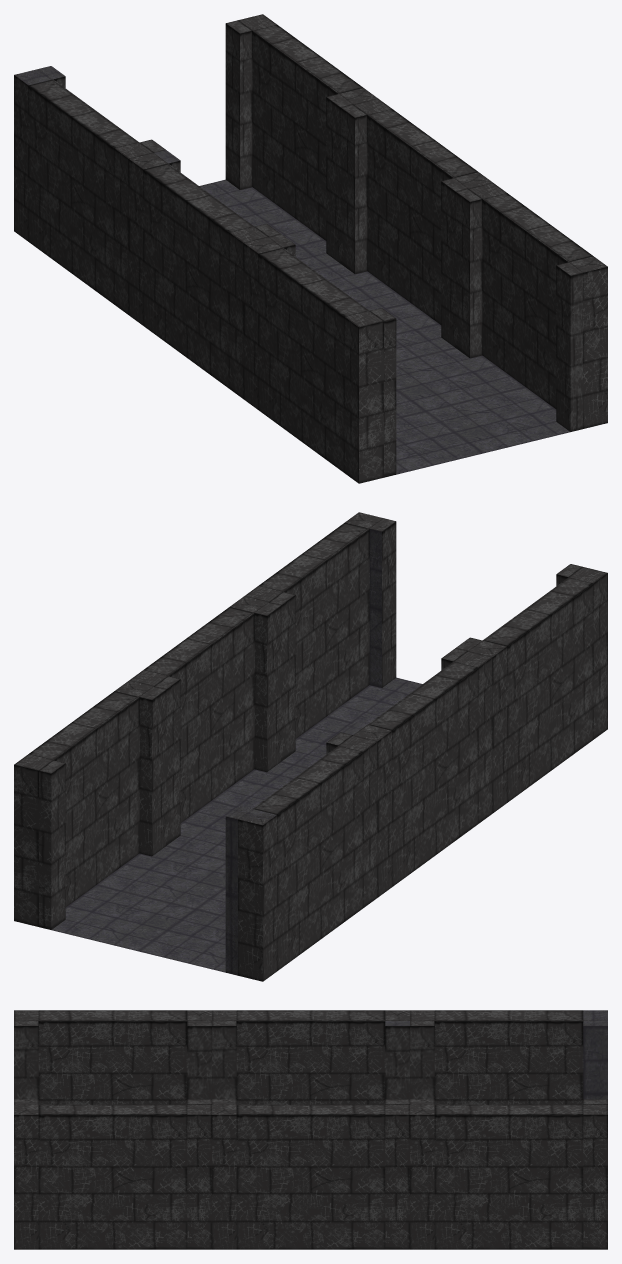
File: corridor1.fbx
3 renders of one model, top to bottom at view 1: azimuth 30°, elevation 25°; view 2: azimuth 150°, elevation 25°; view 3: azimuth 270°, elevation 25°, orthographic. The views are drawn at different scales.
Parts seen in each view (by area): view 1: Cube.000; view 2: Cube.000; view 3: Cube.000.
Boxes of the visible parts, x1,y1,x2,y2 form: Cube.000: (14, 14, 607, 483); Cube.000: (14, 512, 607, 981); Cube.000: (14, 1010, 607, 1249).
Bounding box in the file's own units: 500 × 300 × 1200.
